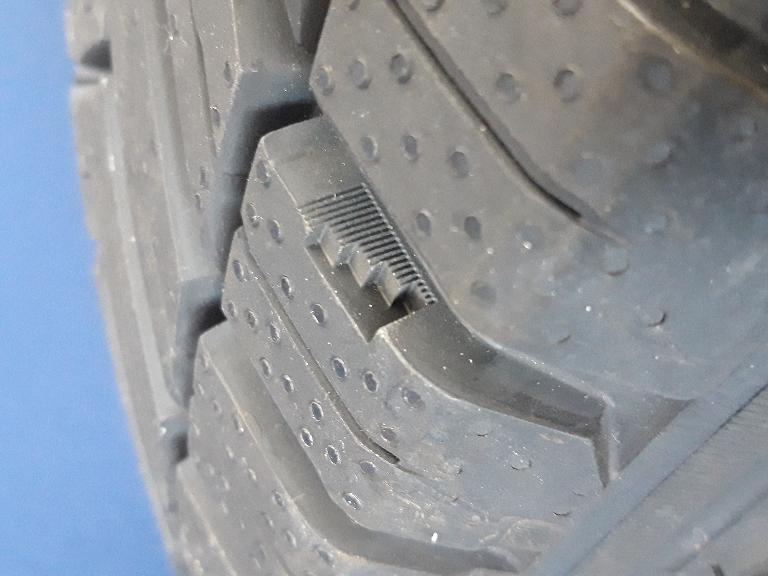temoin:100: (288, 180, 443, 352)
